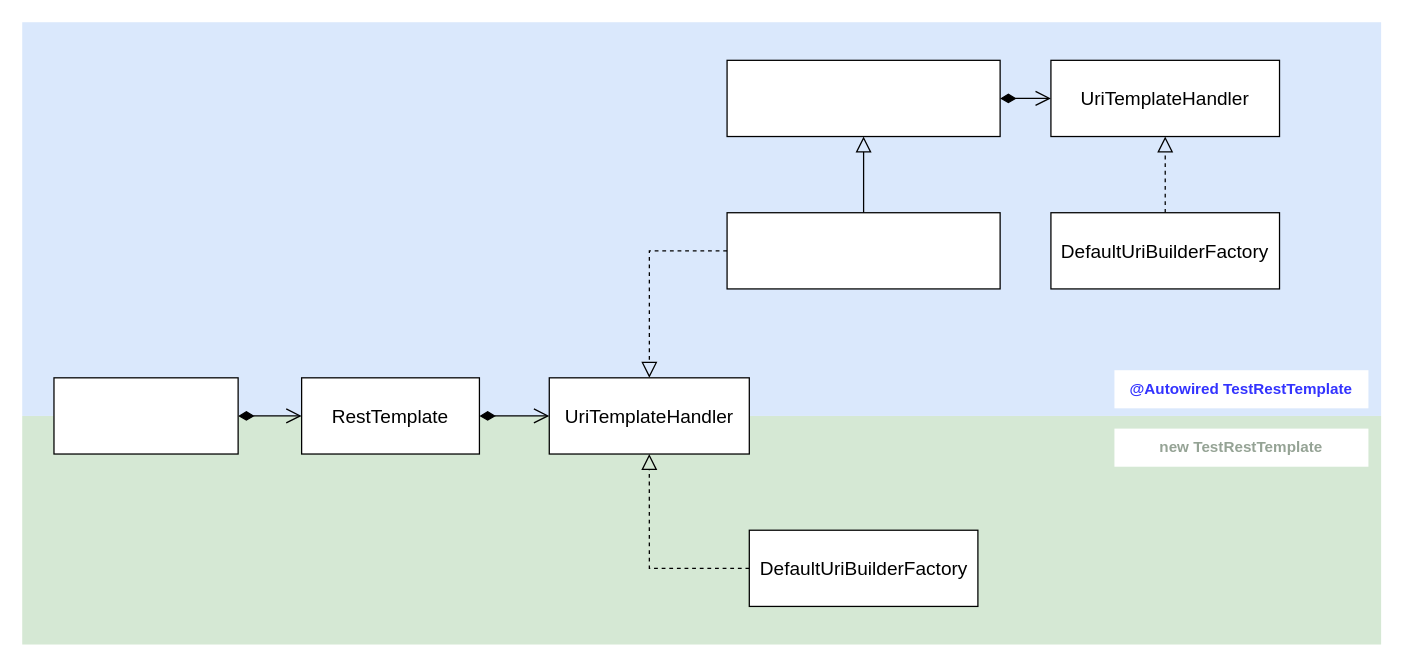
The diagram is 1402 pixels wide and 665 high, and some of its shapes have lost their labels. Here are the shapes that lost their labels. From the top down, the centre of each, then its label:
(863,98): RootUriTemplateHandler
(863,250): LocalHostUriTemplateHandler
(145,415): TestRestTemplate
